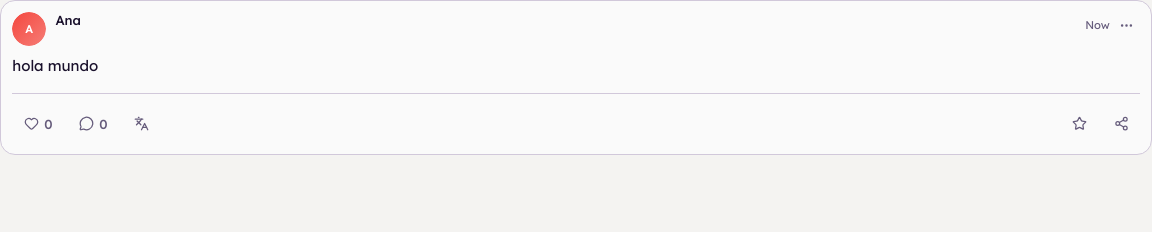
Scenario: translation direction flows › translates feed posts to the viewer native language
Click the button named "Translate post to English" at (141, 124), box x1=123 y1=105 x2=160 y2=143
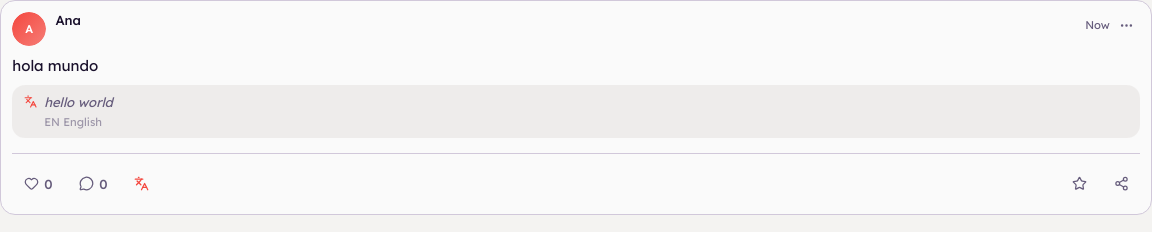
Check: the text "hello world" is shown, box x1=44 y1=94 x2=113 y2=110
